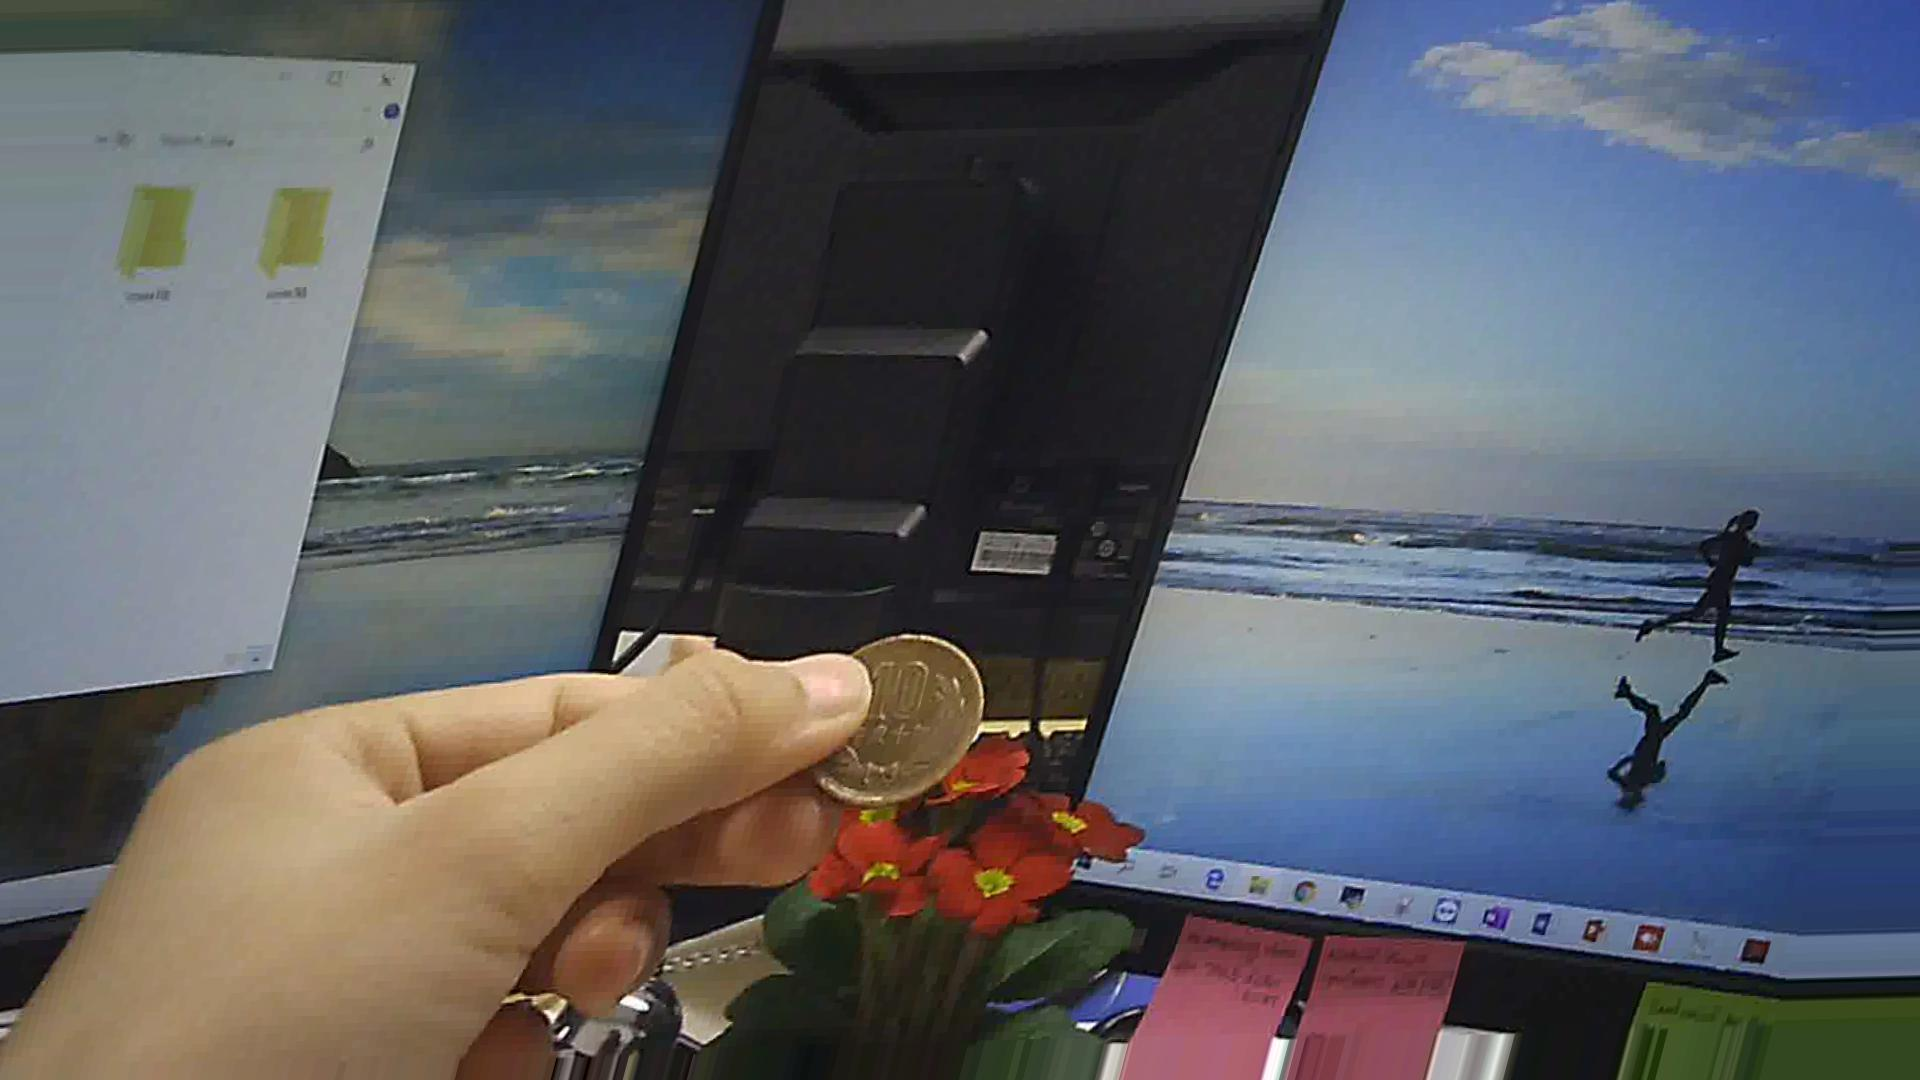10 Yen: (800, 622, 1013, 804)
